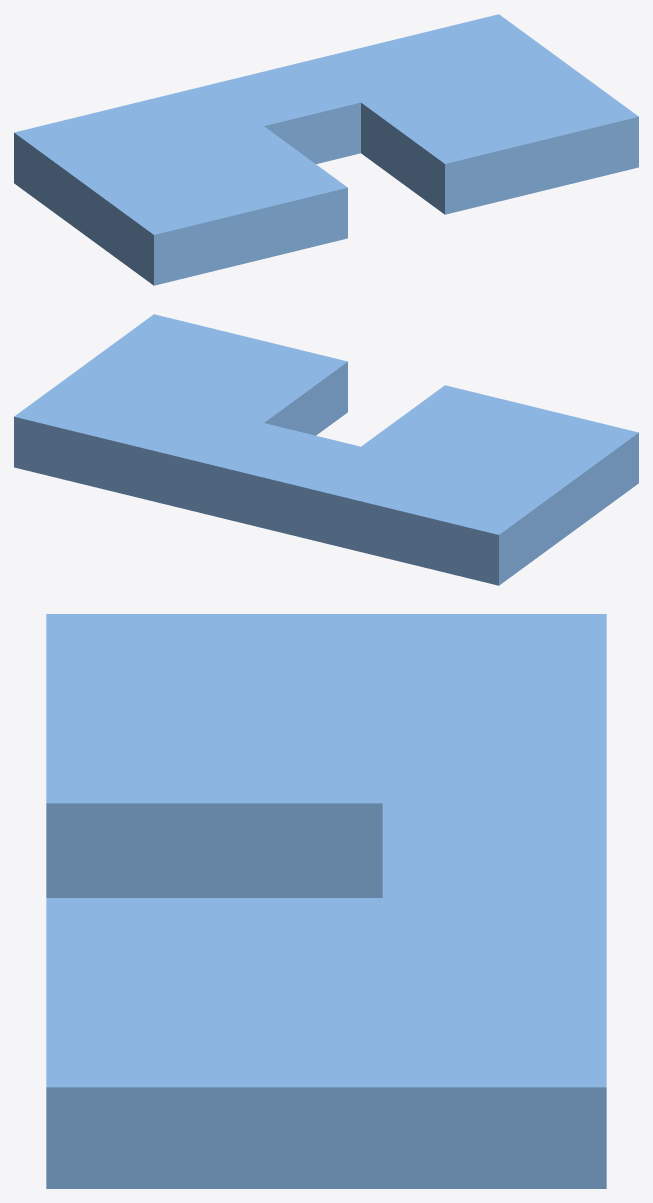
File: wallWithADoor.glb
3 views of the same model, one above another, from view 1: azimuth 30°, elevation 25°; view 2: azimuth 150°, elevation 25°; view 3: azimuth 270°, elevation 25° (orthographic). The views are drawn at different scales.
Parts seen in each view (by area): view 1: imagetostl_mesh0; view 2: imagetostl_mesh0; view 3: imagetostl_mesh0.
Part boxes in pixels (x1,y1,x2,y2): imagetostl_mesh0: (14,14,638,285); imagetostl_mesh0: (14,314,638,585); imagetostl_mesh0: (46,614,606,1188).
Bounding box in the file's own units: 0.03 × 0.003 × 0.015.
